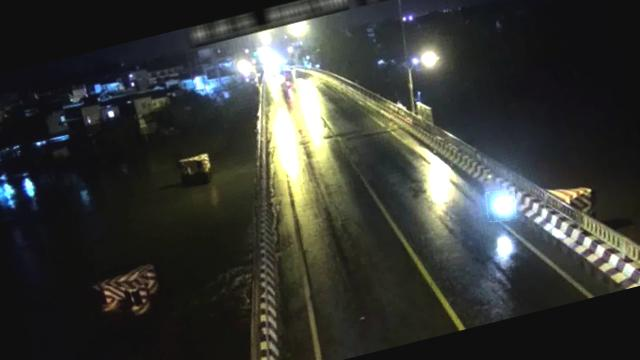Bike: (483, 187, 520, 224)
